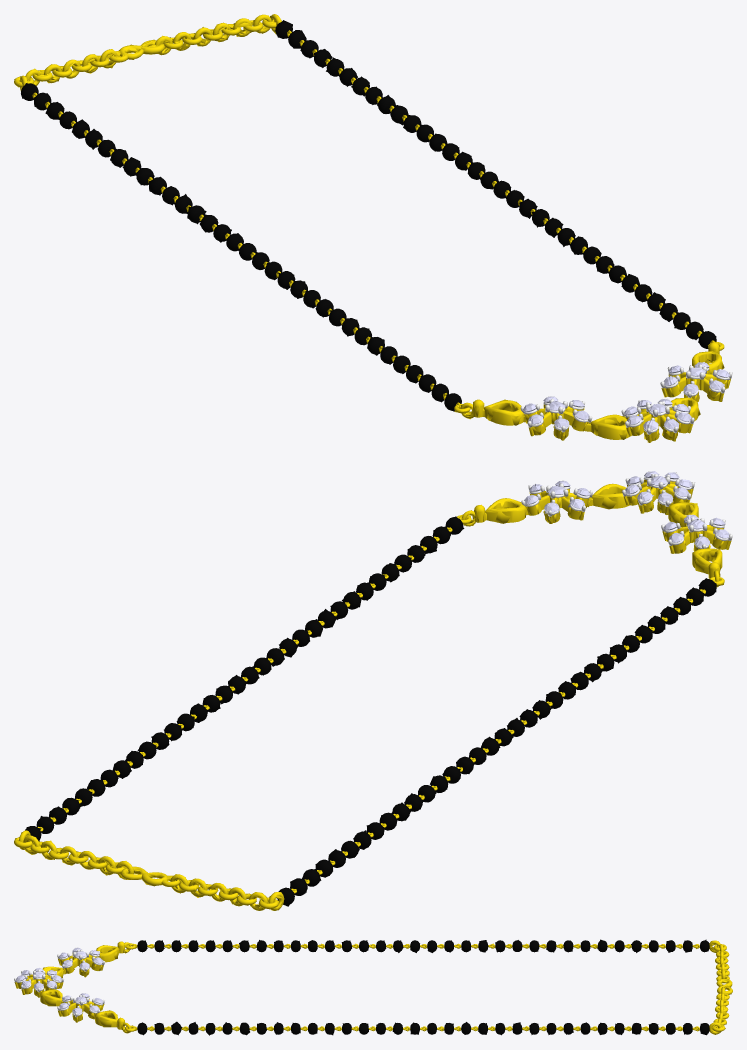
Rendered from DPN-D000619922.glb.
3 renders of one model, top to bottom at view 1: azimuth 30°, elevation 25°; view 2: azimuth 150°, elevation 25°; view 3: azimuth 270°, elevation 25°, orthographic. The views are drawn at different scales.
Visible parts, largest first — view 1: highPolyMesh, lowPolyMesh; view 2: highPolyMesh, lowPolyMesh; view 3: highPolyMesh, lowPolyMesh.
Boxes of the visible parts, x1,y1,x2,y2 form: highPolyMesh: (14,14,732,442); lowPolyMesh: (14,15,732,442); highPolyMesh: (14,471,732,910); lowPolyMesh: (15,471,730,910); highPolyMesh: (14,940,732,1034); lowPolyMesh: (14,939,731,1035).
Size of the model in its own units: 0.0368 by 0.00423 by 0.1273.
